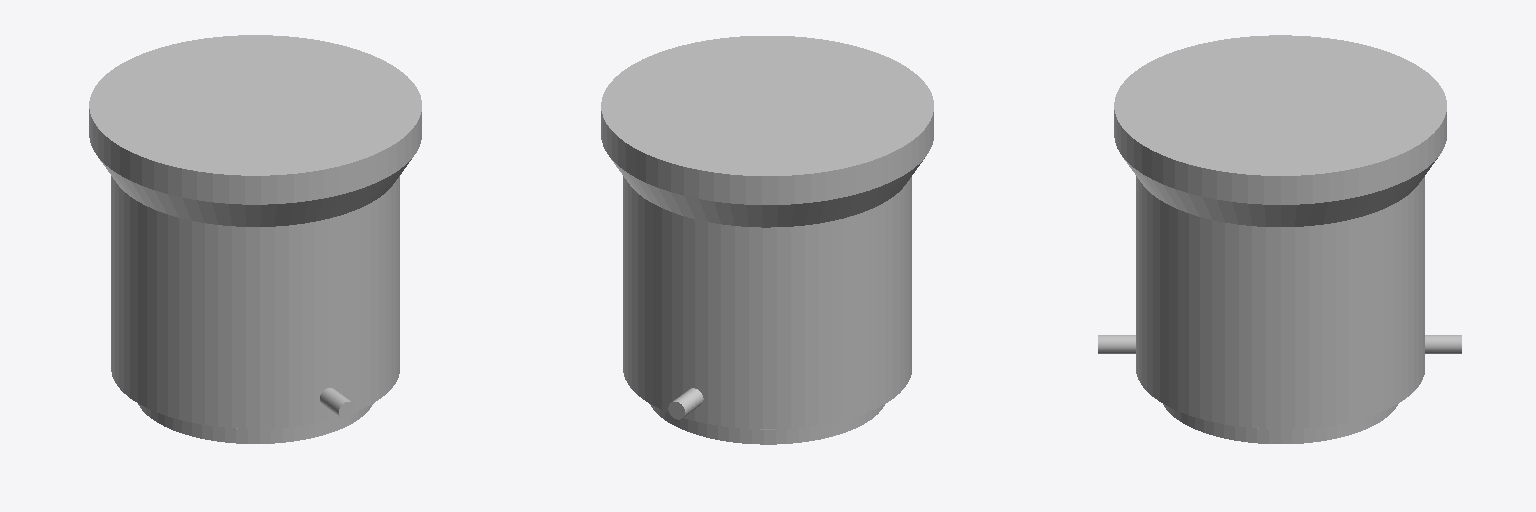
Rendered from culot.obj.
3 views of the same model, side by side, from view 1: azimuth 30°, elevation 25°; view 2: azimuth 150°, elevation 25°; view 3: azimuth 270°, elevation 25° (orthographic).
Visible parts, largest first — view 1: Cylinder; view 2: Cylinder; view 3: Cylinder.
Boxes of the visible parts, <box> form: Cylinder: <box>89,35,421,443</box>; Cylinder: <box>601,36,933,444</box>; Cylinder: <box>1098,35,1461,443</box>.
Size of the model in its own units: 2.3 by 2.29 by 2.51.